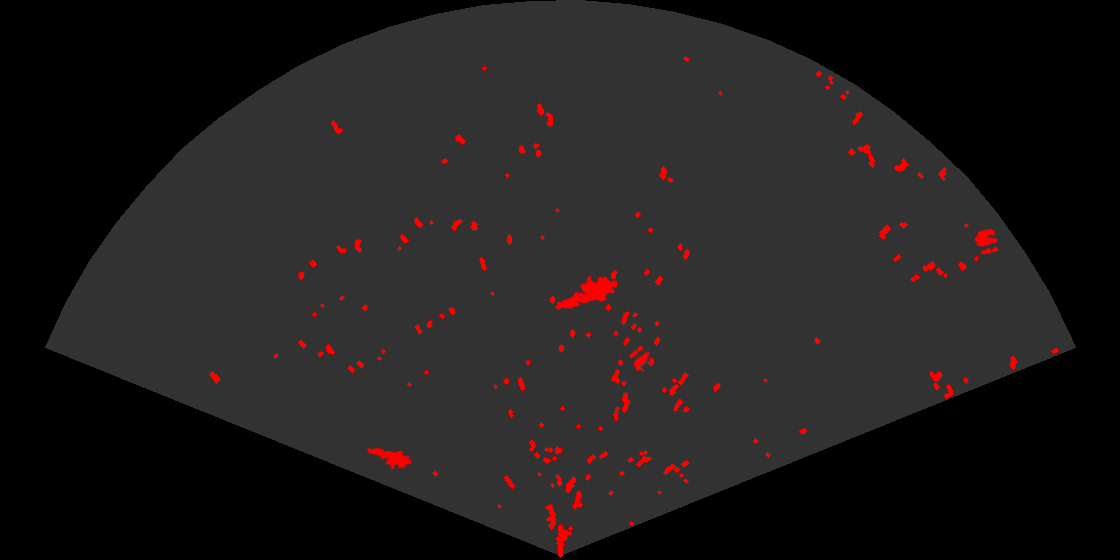ball: (628, 344, 656, 373), (973, 227, 1000, 256)
frogman: (554, 274, 617, 311), (365, 446, 411, 471)
